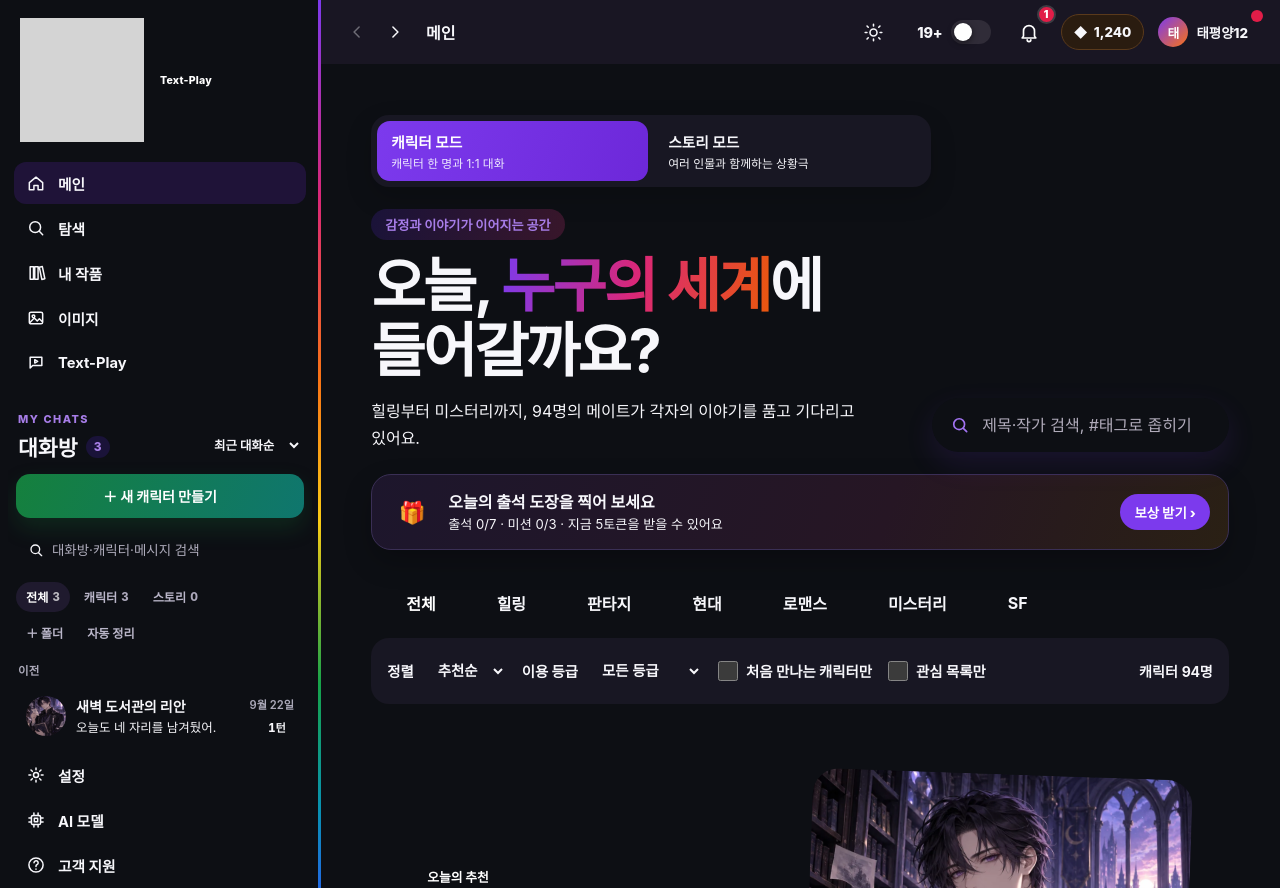
it: 데스크톱 앱 틀 › 상단 바 화살표는 사이드바 메뉴 순서대로 이전·다음 메뉴로 이동한다
Expected: the button named "이전 메뉴" is disabled, x1=340 y1=15 x2=374 y2=49
Step 1. Click the button named "다음 메뉴: 탐색" → (395, 32), box x1=378 y1=15 x2=412 y2=49
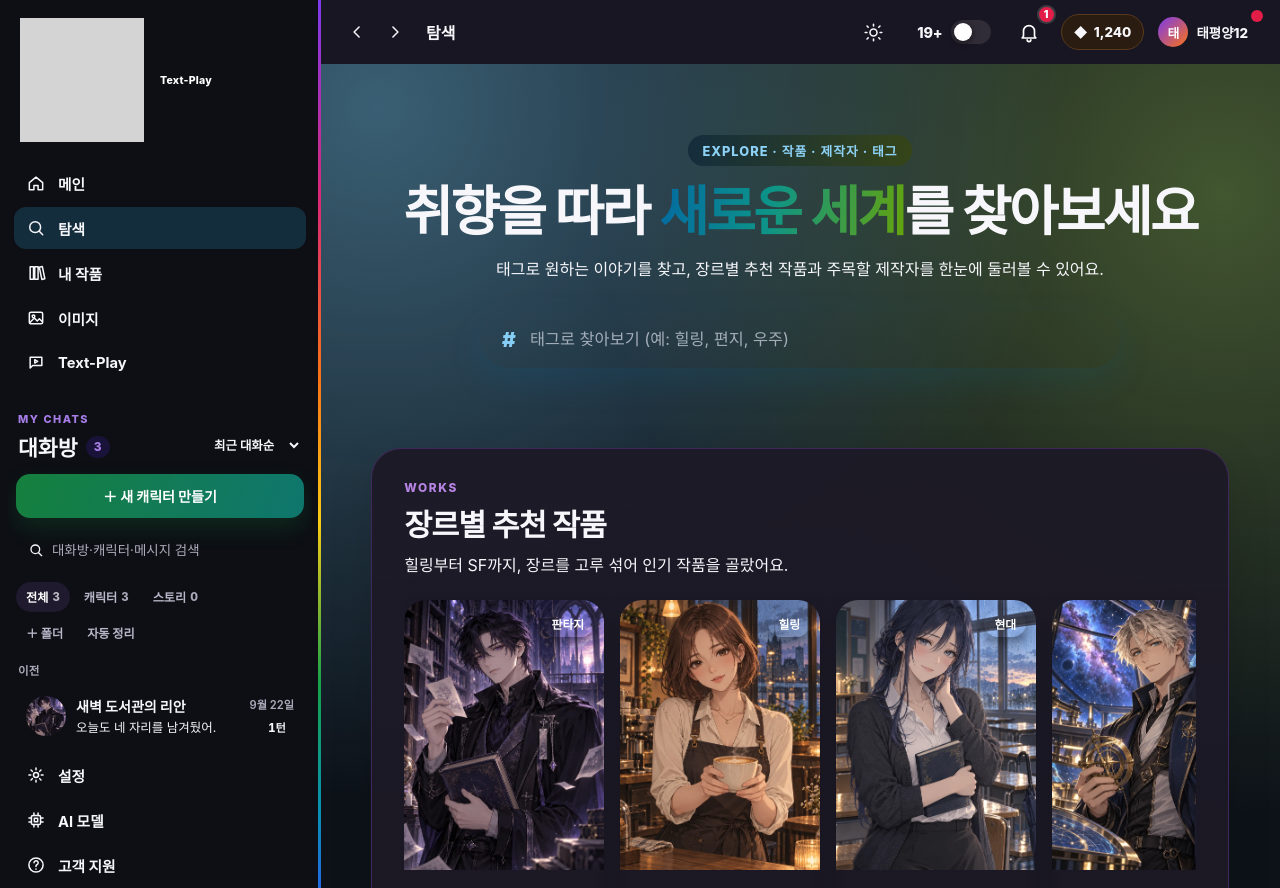
Now the heading "새로운 세계" is shown, box x1=403 y1=182 x2=1197 y2=242
Step 2. Click the button named "다음 메뉴: 내 작품" → (395, 32), box x1=378 y1=15 x2=412 y2=49
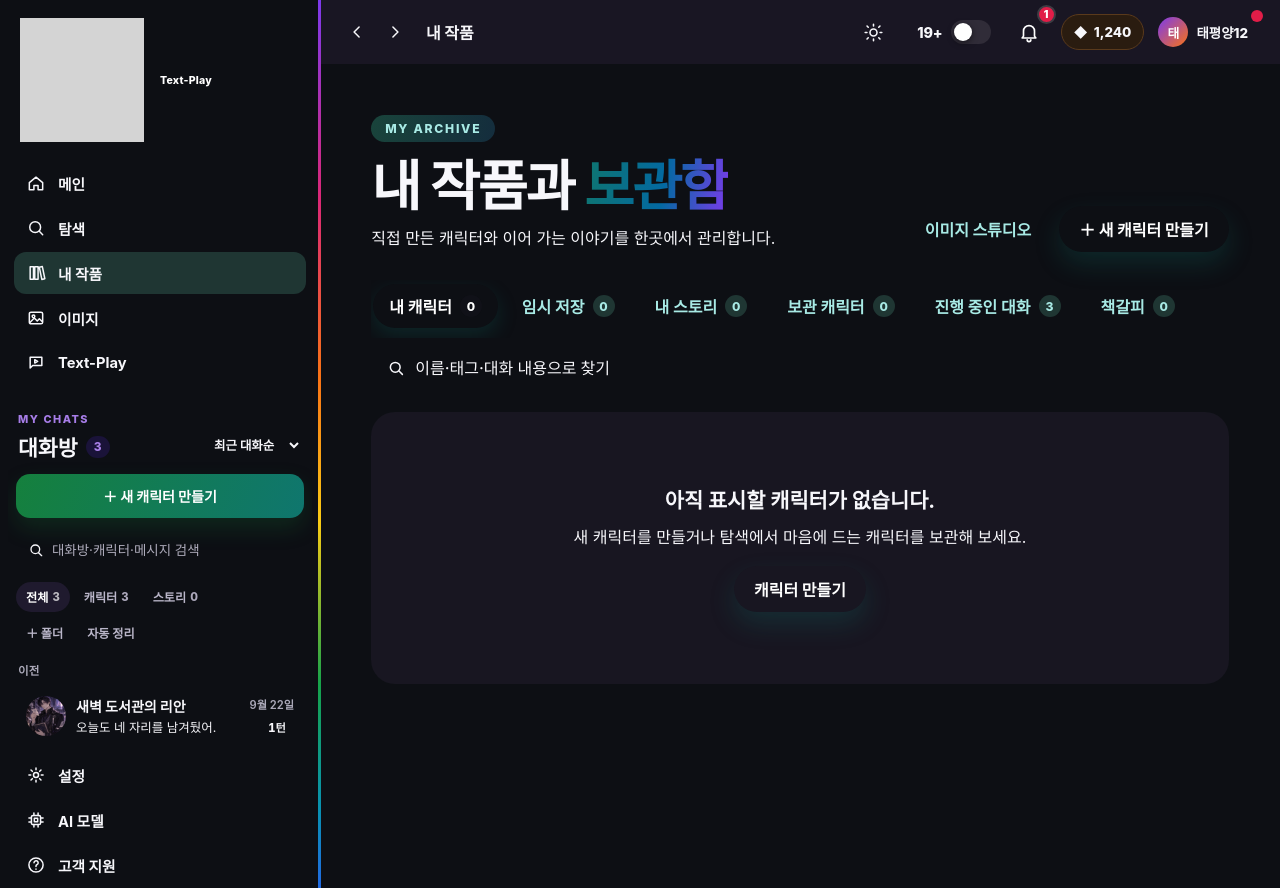
Now the heading "내 작품과 보관함" is shown, box x1=371 y1=156 x2=775 y2=217
Step 3. Click the button named "이전 메뉴: 탐색" → (357, 32), box x1=340 y1=15 x2=374 y2=49
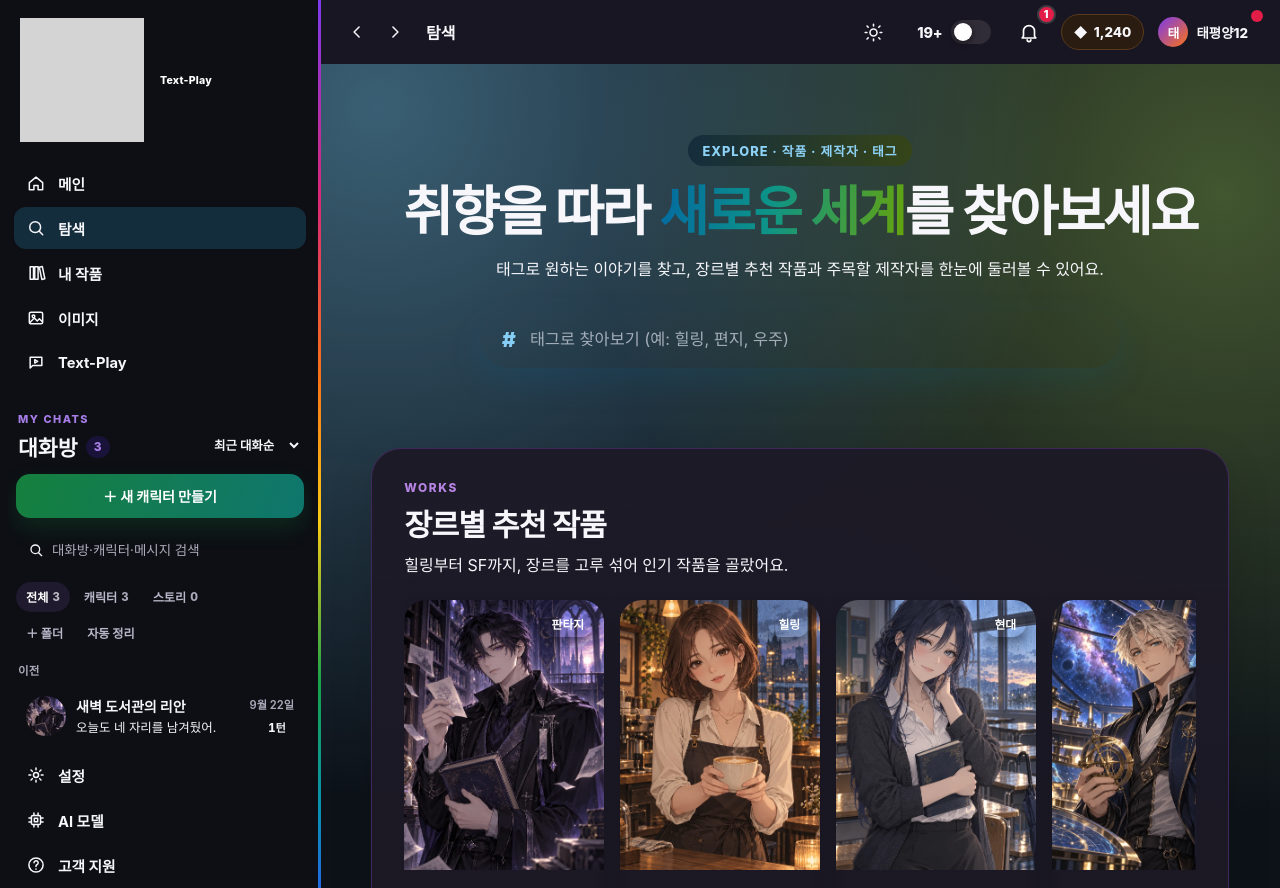
Now the heading "새로운 세계" is shown, box x1=403 y1=182 x2=1197 y2=242
Step 4. Click the button named "이전 메뉴: 메인" → (357, 32), box x1=340 y1=15 x2=374 y2=49
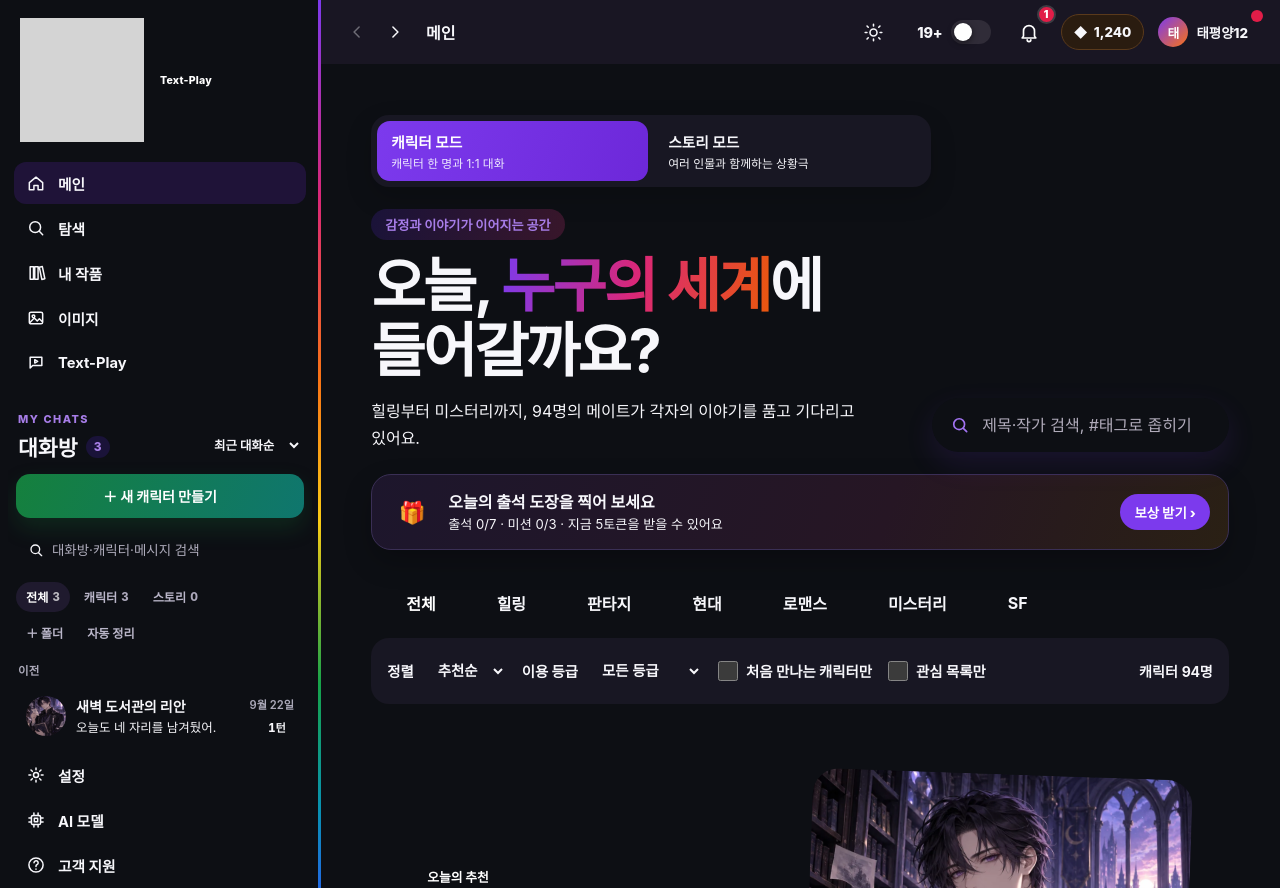
Now the heading "오늘, 누구의 세계에 들어갈까요?" is shown, box x1=371 y1=254 x2=900 y2=384
Now the button named "이전 메뉴" is disabled, box x1=340 y1=15 x2=374 y2=49
